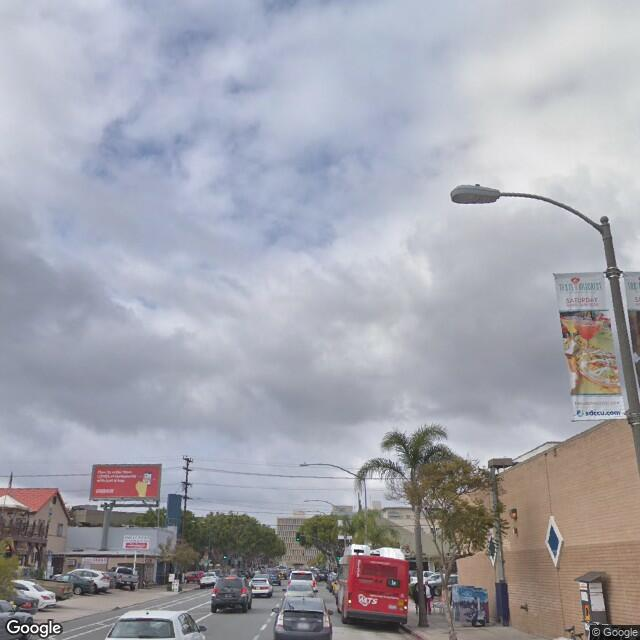light: (446, 182, 507, 209)
